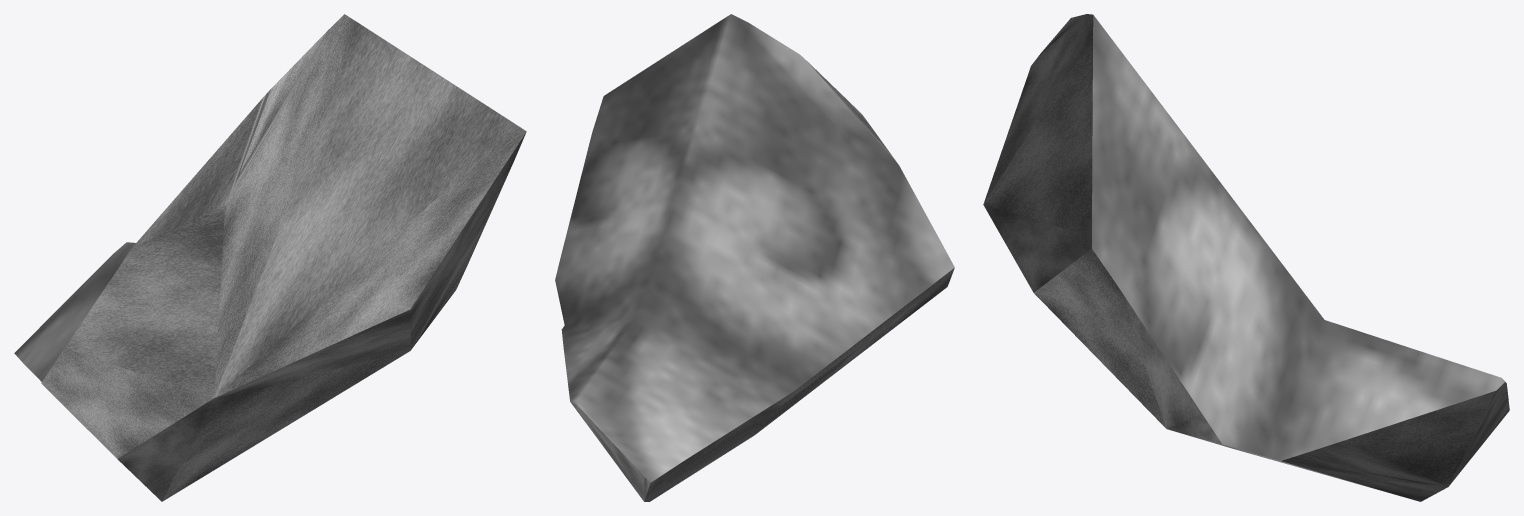
File: body_cell_046.fbx
3 renders of one model, left to right at view 1: azimuth 30°, elevation 25°; view 2: azimuth 150°, elevation 25°; view 3: azimuth 270°, elevation 25°, orthographic. The views are drawn at different scales.
Visible parts, largest first — view 1: body_cell.046; view 2: body_cell.046; view 3: body_cell.046.
Boxes of the visible parts, x1,y1,x2,y2 form: body_cell.046: (14, 14, 526, 501); body_cell.046: (555, 14, 954, 501); body_cell.046: (983, 14, 1509, 501).
Size of the model in its own units: 44.21 by 47.02 by 43.6.
